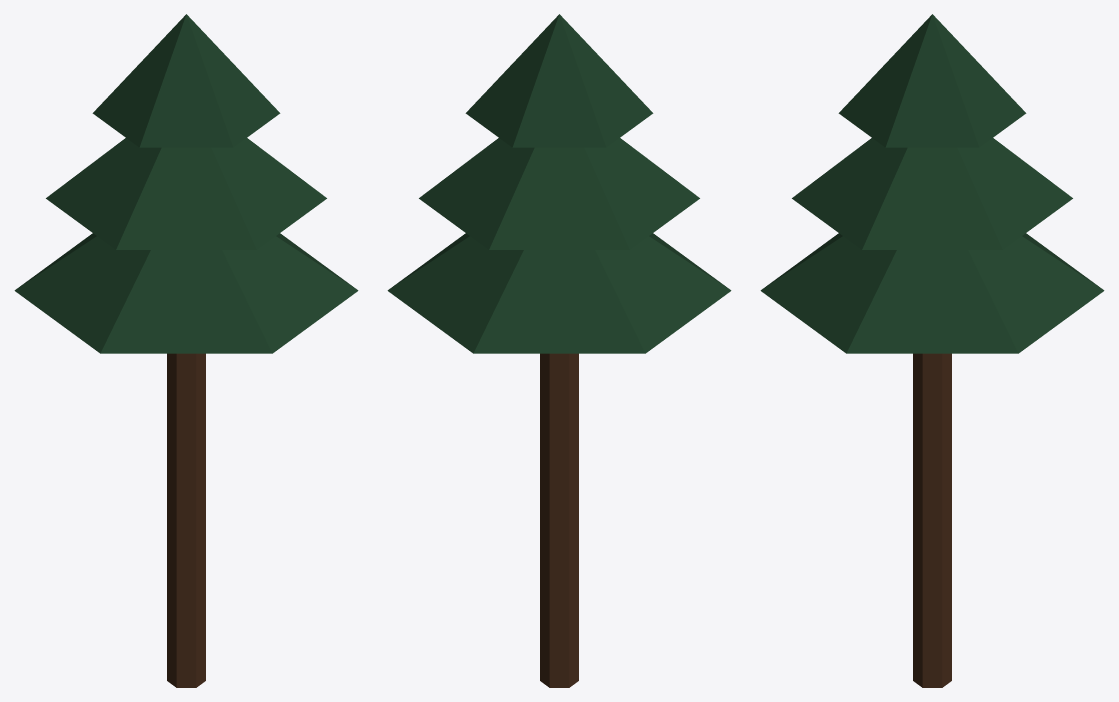
File: pine_tall.glb
The picture shows the model from 3 angles, left to right: view 1: azimuth 30°, elevation 25°; view 2: azimuth 150°, elevation 25°; view 3: azimuth 270°, elevation 25°; orthographic projection.
Parts seen in each view (by area): view 1: PineTall; view 2: PineTall; view 3: PineTall.
Part boxes in pixels (x1=…): PineTall: x1=14, y1=14, x2=358, y2=687; PineTall: x1=387, y1=14, x2=731, y2=687; PineTall: x1=760, y1=14, x2=1104, y2=687.
Size of the model in its own units: 3.81 by 9.4 by 4.4.
